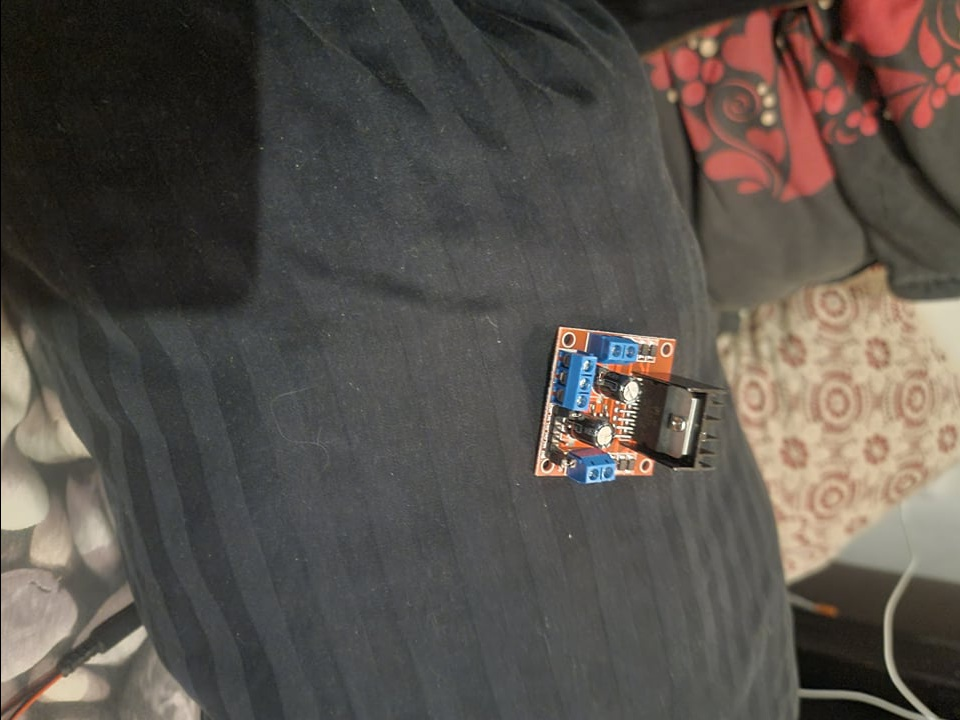MOTOR: (531, 321, 726, 484)
